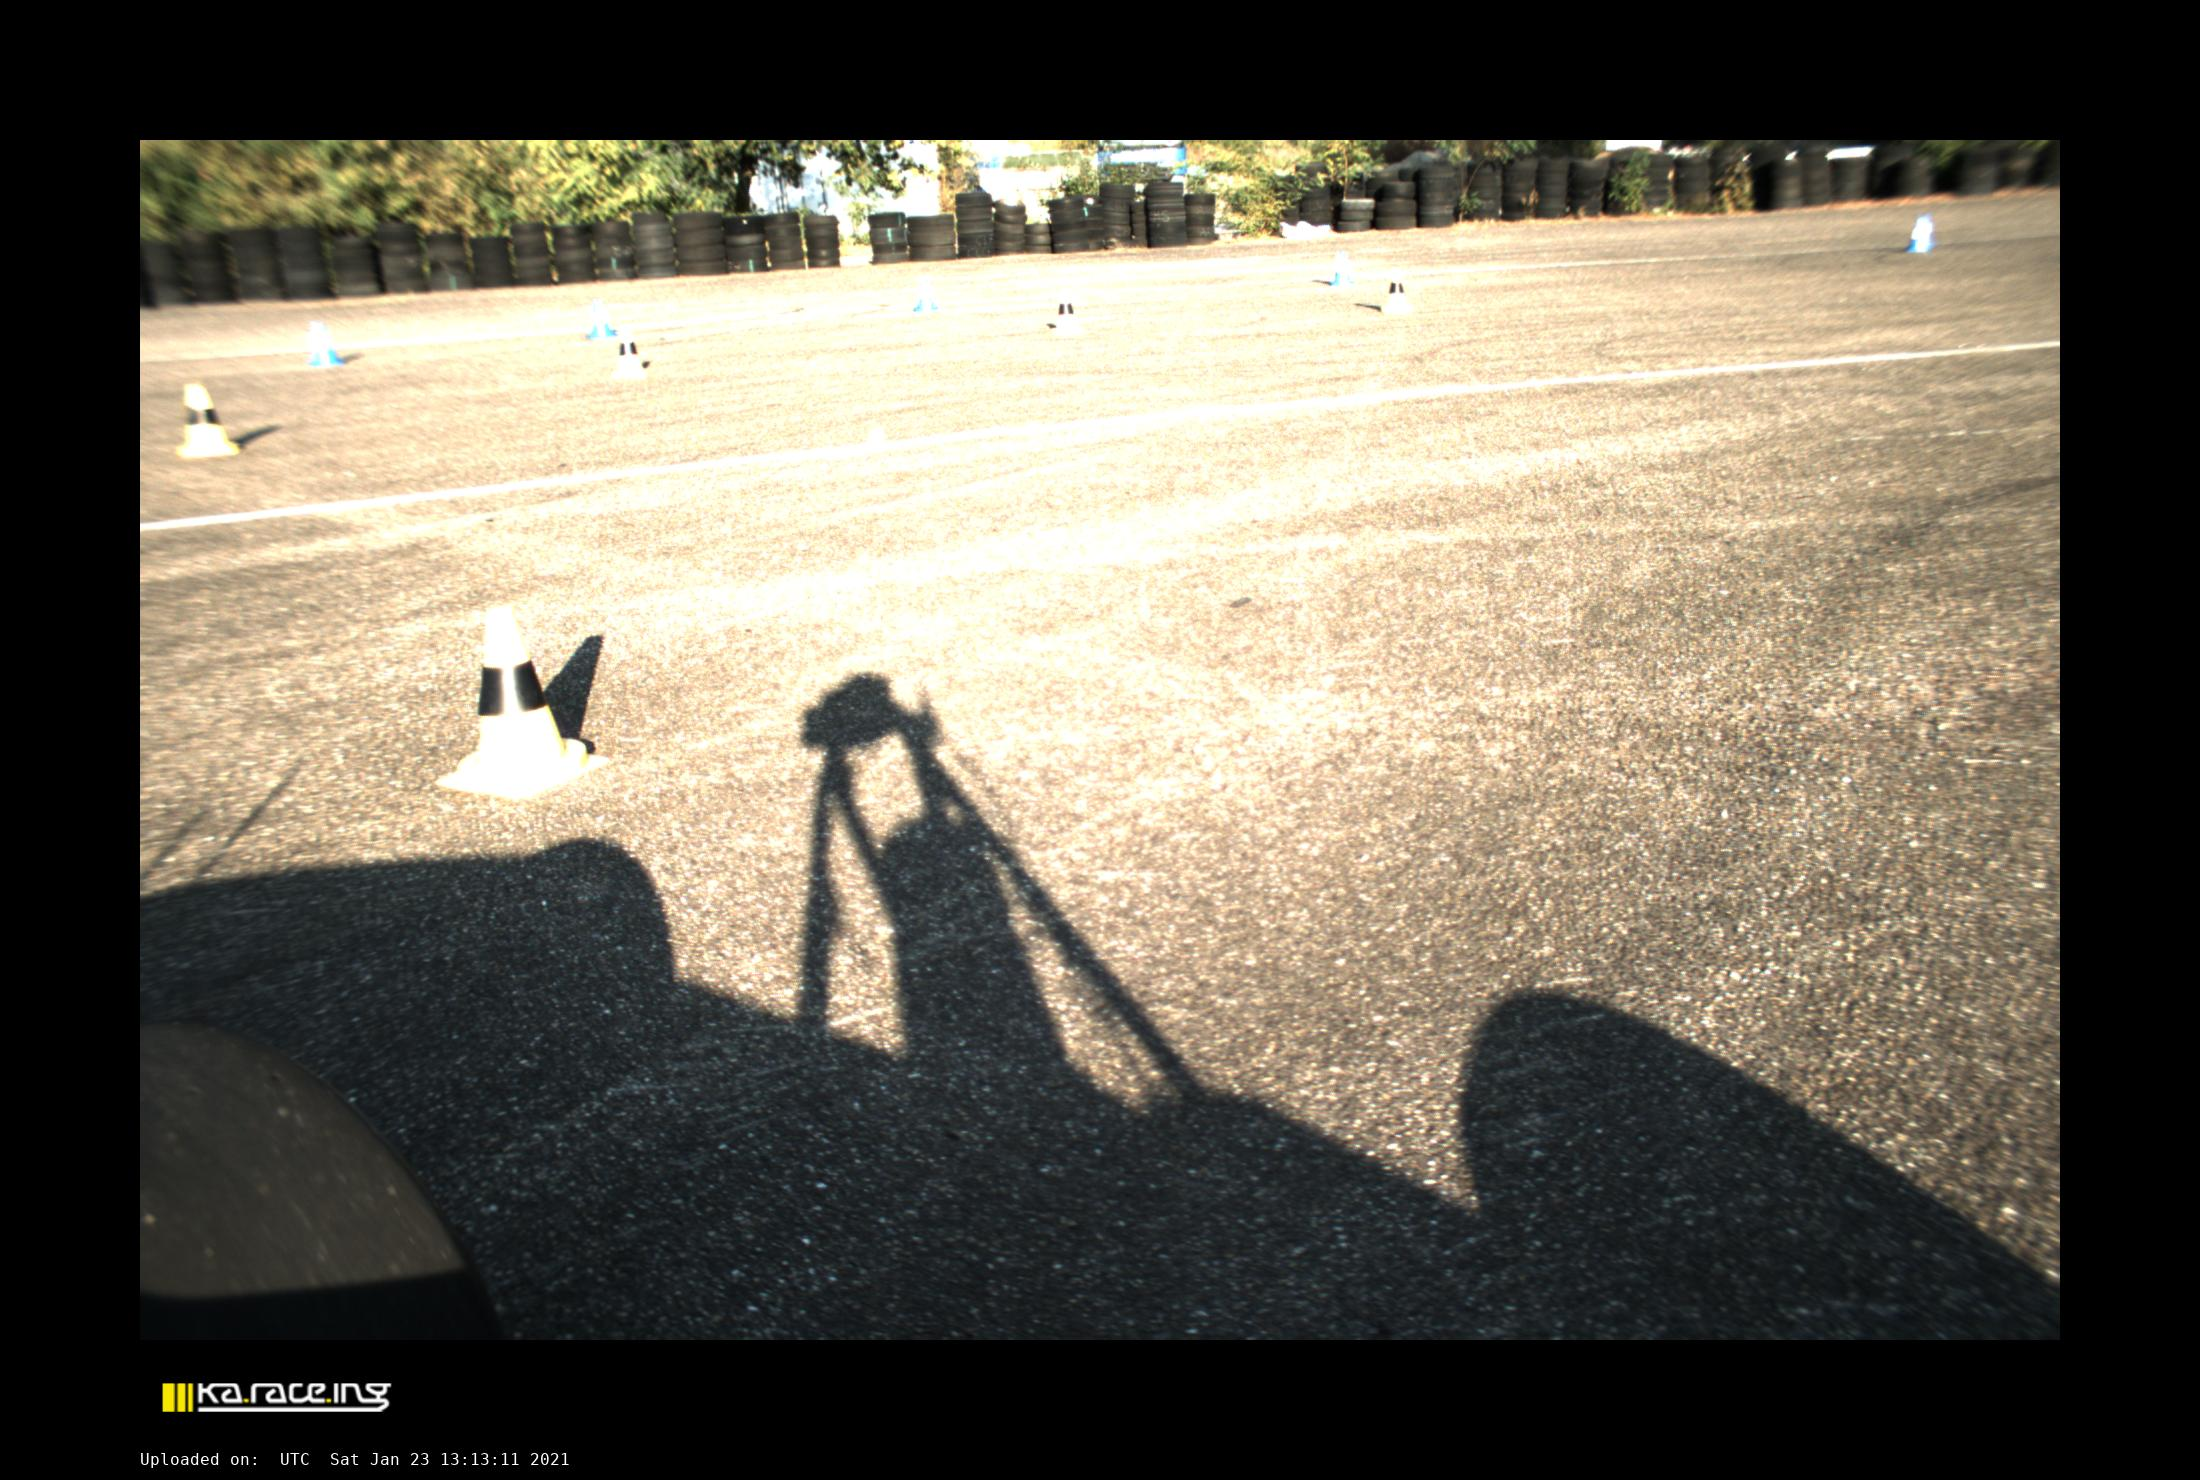blue_cone: (307, 324, 345, 367), (586, 302, 614, 337), (1908, 218, 1936, 253), (1328, 253, 1354, 284), (913, 281, 936, 311)
yellow_cone: (431, 601, 614, 799), (175, 382, 241, 459), (613, 332, 647, 378), (1382, 273, 1411, 314), (1054, 296, 1080, 335)
